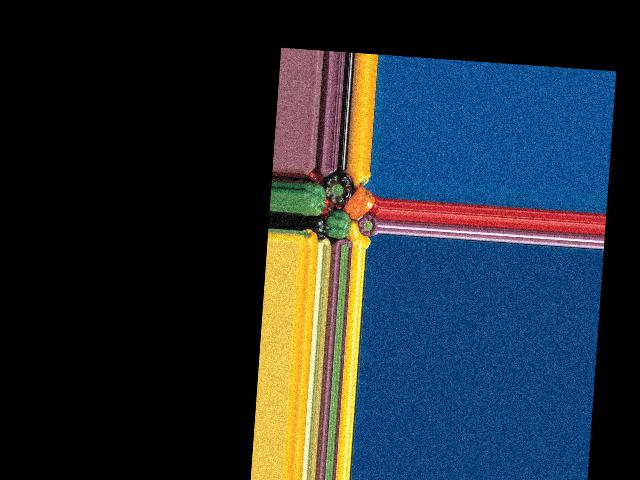bell_pepper: (300, 180, 324, 215)
